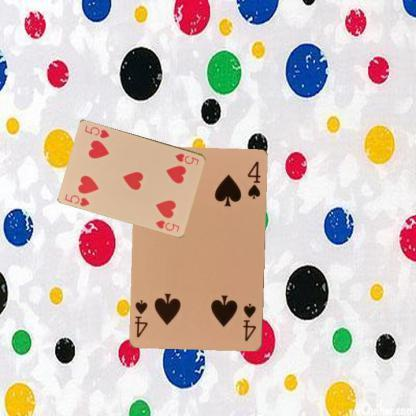4s: (240, 301, 257, 343)
5h: (63, 192, 92, 208), (172, 150, 200, 166)
